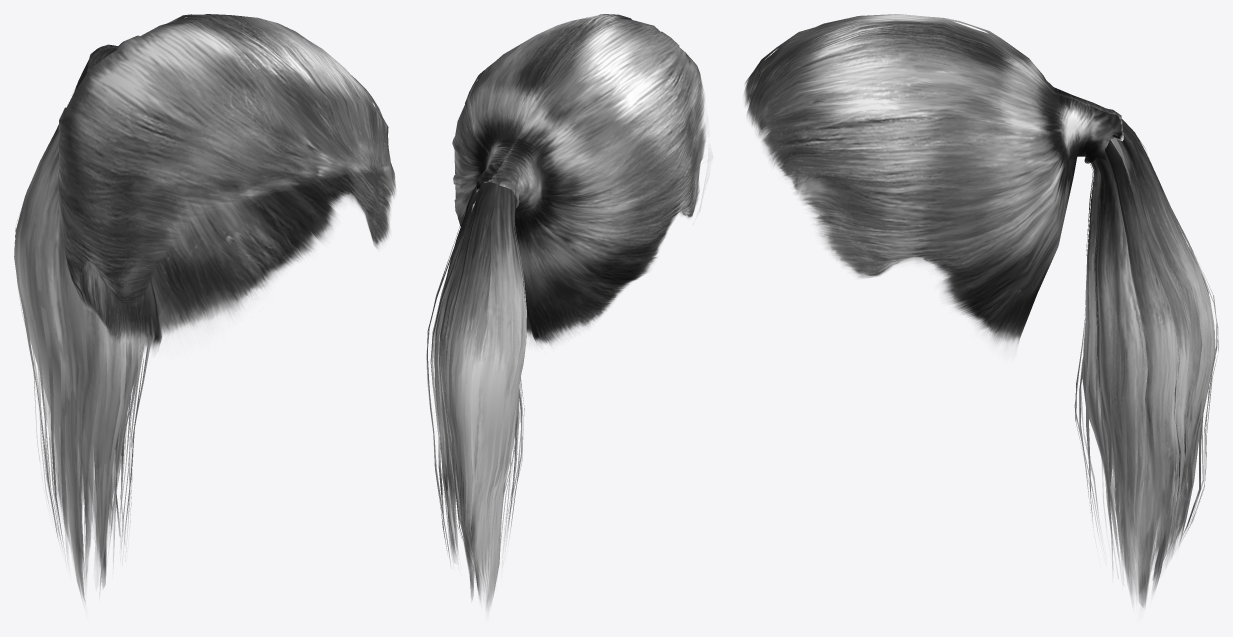
File: hair_ponytail01.gltf
3 views of the same model, side by side, from view 1: azimuth 30°, elevation 25°; view 2: azimuth 150°, elevation 25°; view 3: azimuth 270°, elevation 25° (orthographic). The views are drawn at different scales.
Parts seen in each view (by area): view 1: hair_ponytail01; view 2: hair_ponytail01; view 3: hair_ponytail01.
Boxes of the visible parts, x1,y1,x2,y2 form: hair_ponytail01: (14, 14, 396, 604); hair_ponytail01: (426, 14, 706, 612); hair_ponytail01: (744, 14, 1218, 608).
Size of the model in its own units: 0.1526 by 0.3685 by 0.2638.
1 material, 1 textured.
